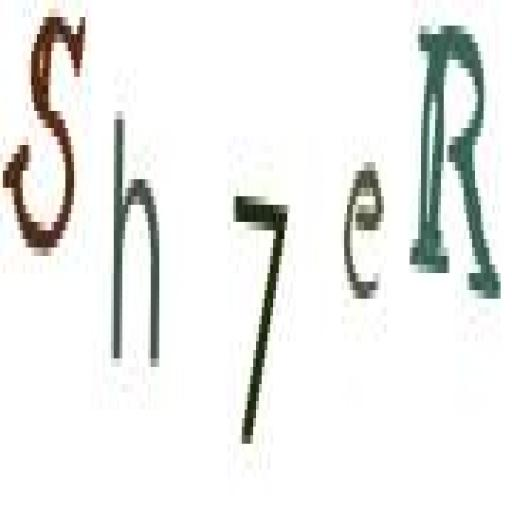7: (227, 172, 296, 472)
R: (412, 4, 510, 318)
S: (0, 0, 91, 280)
e: (339, 152, 390, 317)
h: (106, 99, 164, 385)
